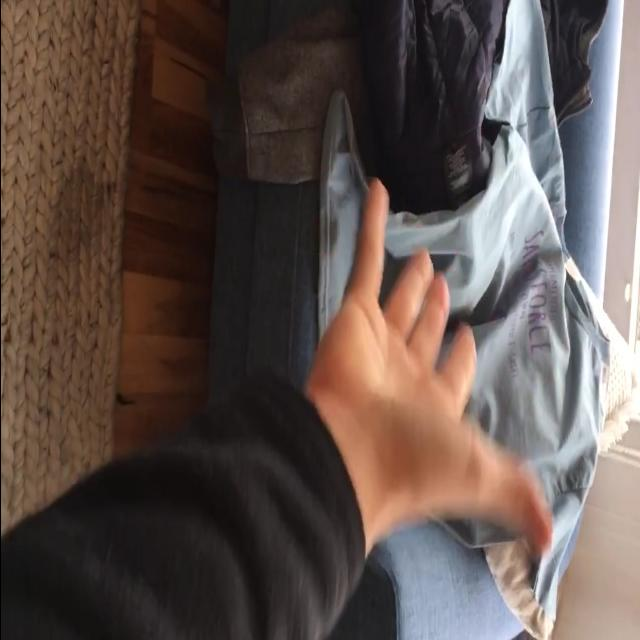Paper: (312, 182, 554, 562)
